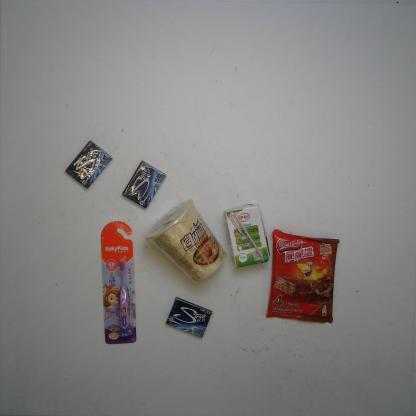Dessert: (266, 228, 340, 323)
Gum: (66, 140, 112, 188), (122, 160, 166, 208), (166, 297, 212, 338)
Instant Noodles: (145, 200, 226, 282)
Milk: (224, 204, 271, 268)
Personal Hygiene: (101, 221, 137, 344)
